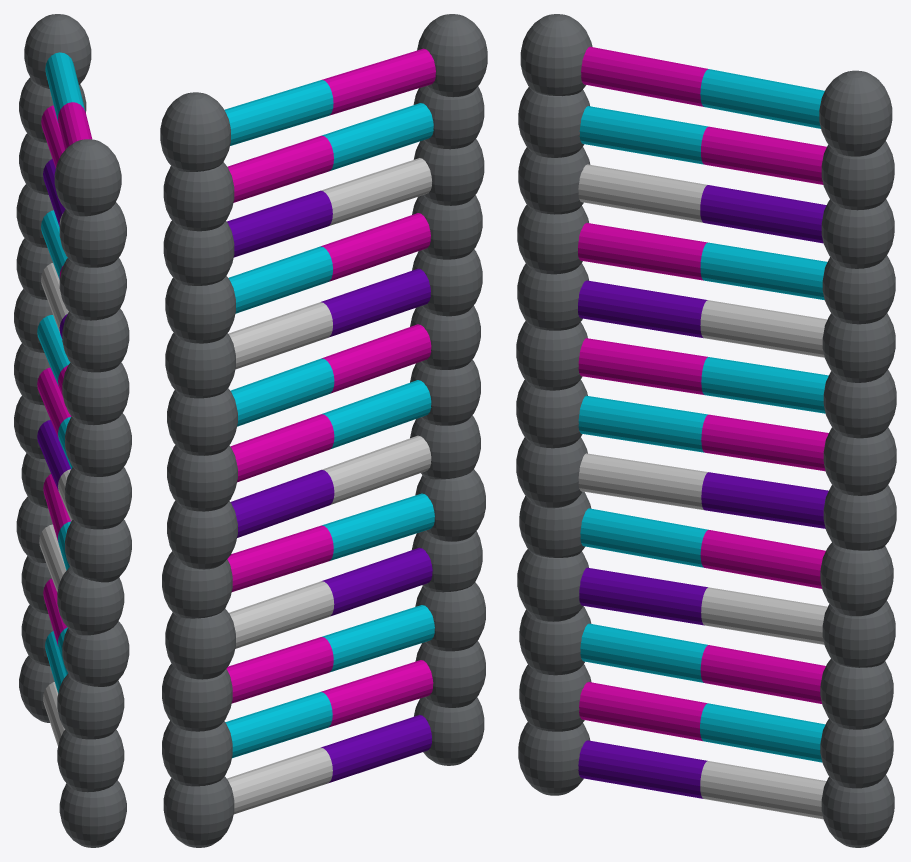
The model's file is DNAflatmutation3.glb.
3 renders of one model, left to right at view 1: azimuth 30°, elevation 25°; view 2: azimuth 150°, elevation 25°; view 3: azimuth 270°, elevation 25°, orthographic. The views are drawn at different scales.
Visible parts, largest first — view 1: Mesh_Mesh_head_geo.001_lambert2SG.001; view 2: Mesh_Mesh_head_geo.001_lambert2SG.001; view 3: Mesh_Mesh_head_geo.001_lambert2SG.001.
Part boxes in pixels (<box>): Mesh_Mesh_head_geo.001_lambert2SG.001: <box>14,14,131,847</box>; Mesh_Mesh_head_geo.001_lambert2SG.001: <box>160,14,487,847</box>; Mesh_Mesh_head_geo.001_lambert2SG.001: <box>516,14,896,847</box>.
Size of the model in its own units: 39.2 by 161 by 71.79.
